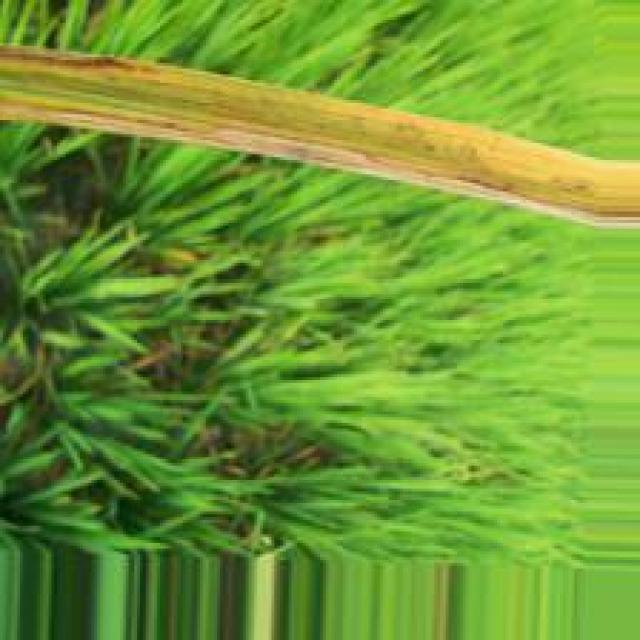Rice Tungro: (54, 107, 600, 225), (3, 46, 168, 77)
